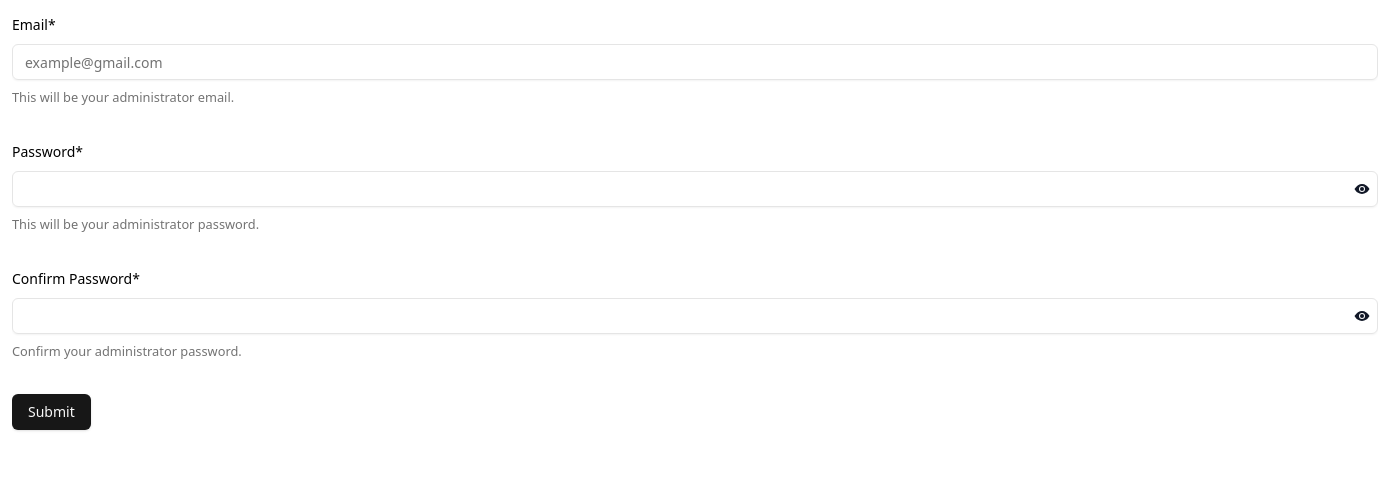
Test: AdminForm › throws error if password is empty
The image size is (1390, 502).
Type "test@example.com" into the field with placeholder "example@gmail.com" at coordinates (695, 62), box [12, 44, 1378, 80]
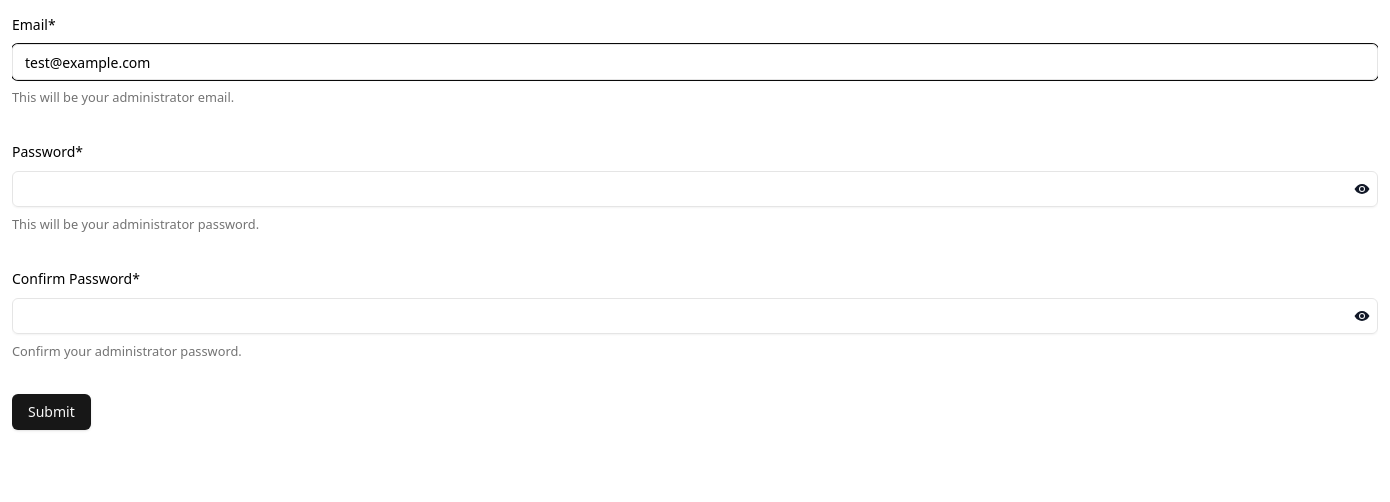
Type "password" into the password field labelled "Confirm Password*" at coordinates (695, 316), box [12, 298, 1378, 334]
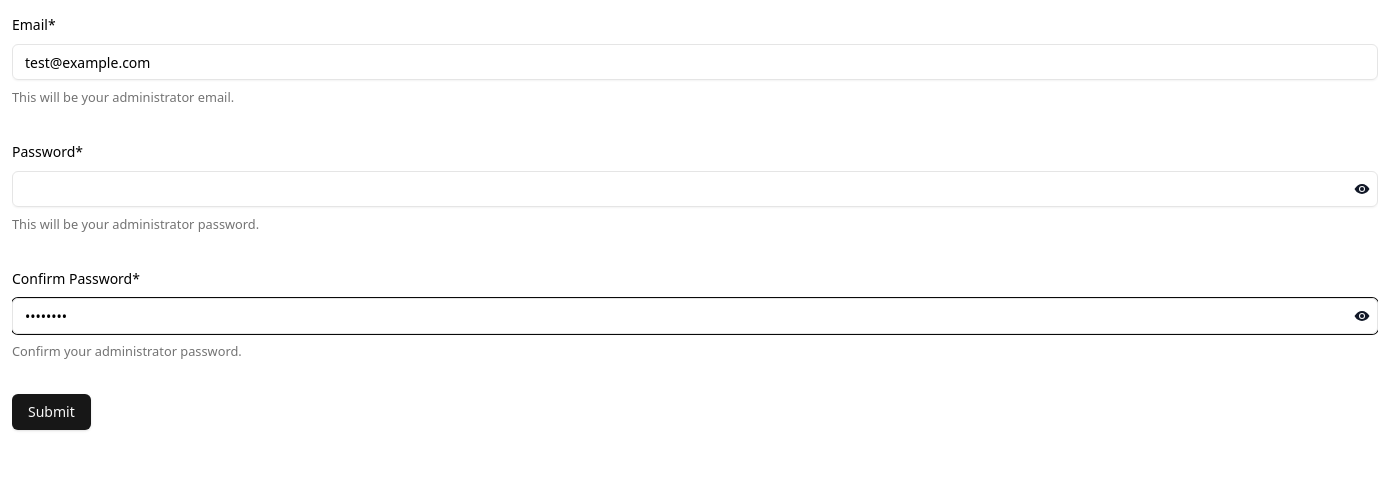
Click the button "Submit" at coordinates (51, 412), box [12, 394, 91, 430]
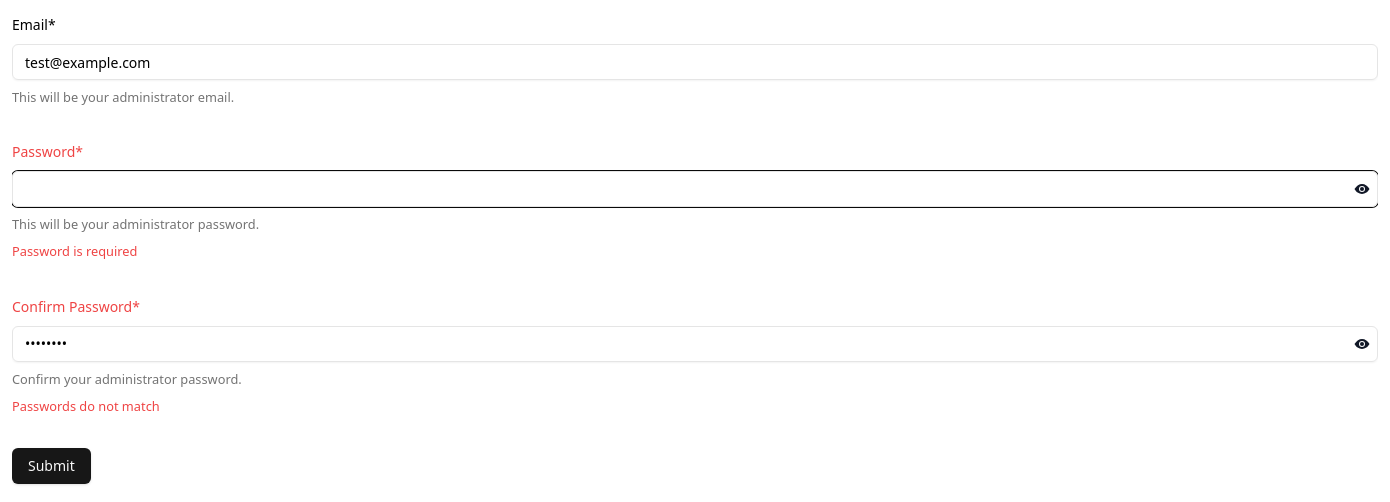
expect the text "Password is required" is shown: met, box [12, 242, 137, 260]
